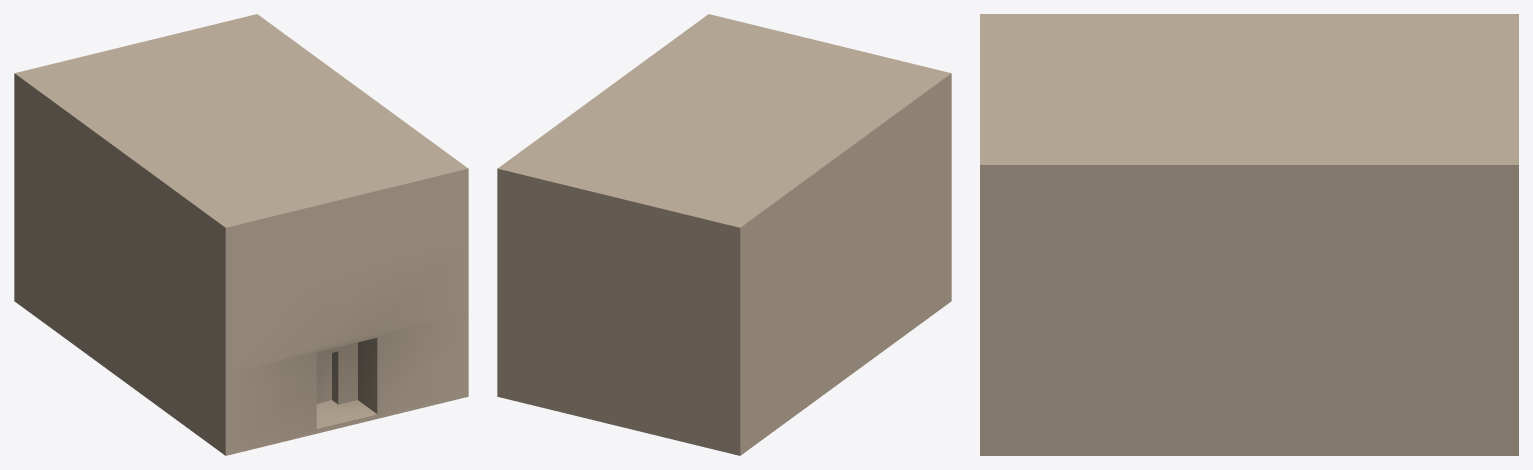
Rendered from massing.glb.
3 views of the same model, side by side, from view 1: azimuth 30°, elevation 25°; view 2: azimuth 150°, elevation 25°; view 3: azimuth 270°, elevation 25° (orthographic). The views are drawn at different scales.
Parts seen in each view (by area): view 1: building/exterior; view 2: building/exterior; view 3: building/exterior.
Boxes of the visible parts, left/top/right/bottom form: building/exterior: left=14, top=14, right=468, bottom=455; building/exterior: left=497, top=14, right=951, bottom=455; building/exterior: left=980, top=14, right=1518, bottom=455.
Size of the model in its own units: 10 by 8.98 by 15.07.
